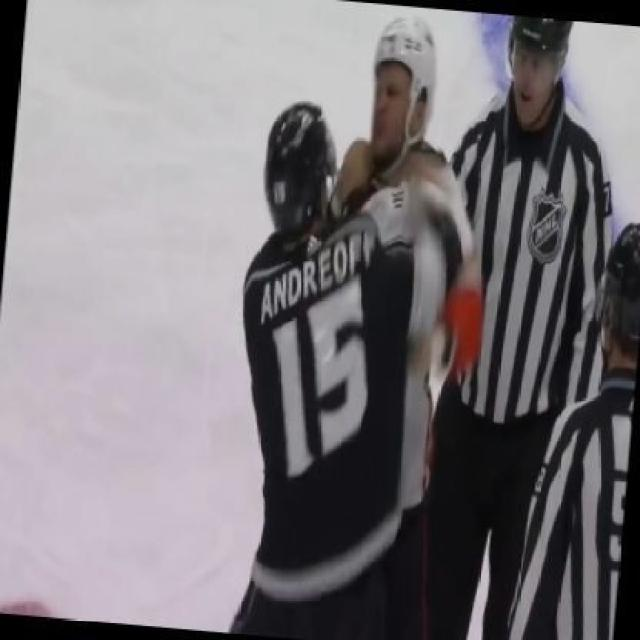fight: (200, 14, 483, 634)
non-fight: (424, 3, 616, 640)
